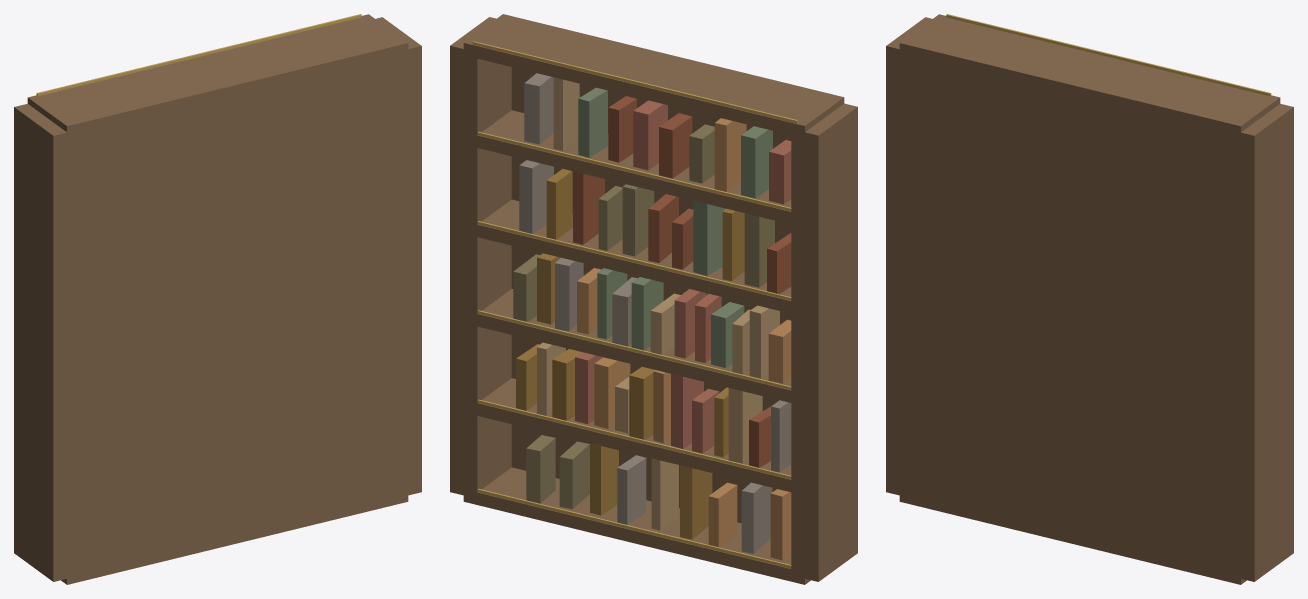
The picture shows the model from 3 angles, left to right: view 1: azimuth 30°, elevation 25°; view 2: azimuth 150°, elevation 25°; view 3: azimuth 330°, elevation 25°; orthographic projection.
Parts seen in each view (by area): view 1: Cube.002, Cube, Cube.013, Cube.001, Cube.003, Cube.014, Cube.005, Cube.009; view 2: Cube, Cube.001, Cube.013, Cube.003, Cube.002, Cube.011, Cube.009, Cube.007, Cube.005, Book.040, Book.003, Book.047 (+61 smaller); view 3: Cube.002, Cube.001, Cube.013, Cube, Cube.003, Cube.007, Cube.011, Cube.014, Cube.009, Cube.005.
Part boxes in pixels (left/top/right/bottom): Cube.002: left=67, top=49, right=408, bottom=576; Cube: left=14, top=103, right=80, bottom=581; Cube.013: left=27, top=14, right=408, bottom=138; Cube.001: left=376, top=17, right=421, bottom=497; Cube.003: left=61, top=490, right=408, bottom=584; Cube.014: left=36, top=14, right=361, bottom=96; Cube.005: left=67, top=406, right=404, bottom=494; Cube.009: left=67, top=228, right=388, bottom=310; Cube: left=791, top=103, right=857, bottom=581; Cube.001: left=450, top=17, right=511, bottom=498; Cube.013: left=463, top=14, right=844, bottom=138; Cube.003: left=463, top=467, right=810, bottom=584; Cube.002: left=511, top=67, right=791, bottom=523; Cube.011: left=464, top=110, right=804, bottom=227; Cube.009: left=464, top=199, right=804, bottom=316; Cube.007: left=465, top=289, right=801, bottom=405; Cube.005: left=464, top=378, right=804, bottom=495; Book.040: left=693, top=200, right=725, bottom=275; Book.003: left=680, top=465, right=712, bottom=539; Book.047: left=519, top=160, right=553, bottom=233; Cube.002: left=899, top=49, right=1240, bottom=574; Cube.001: left=1227, top=103, right=1293, bottom=581; Cube.013: left=899, top=14, right=1280, bottom=137; Cube: left=886, top=17, right=931, bottom=498; Cube.003: left=899, top=490, right=1246, bottom=584; Cube.007: left=901, top=311, right=1233, bottom=403; Cube.011: left=912, top=137, right=1231, bottom=224; Cube.014: left=946, top=14, right=1271, bottom=96; Cube.009: left=927, top=228, right=1232, bottom=308; Cube.005: left=938, top=416, right=1230, bottom=489.
Bounding box in the file's own units: 2.16 × 2.58 × 0.4.
